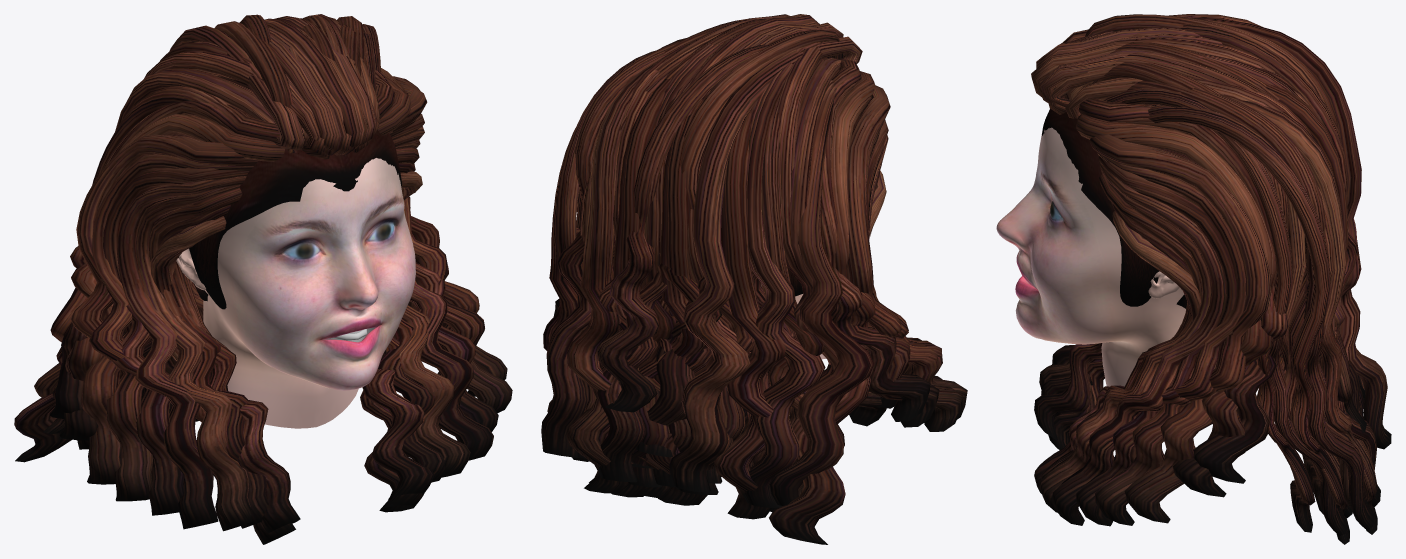
3 renders of one model, left to right at view 1: azimuth 30°, elevation 25°; view 2: azimuth 150°, elevation 25°; view 3: azimuth 270°, elevation 25°, orthographic. The views are drawn at different scales.
Parts seen in each view (by area): view 1: th; view 2: th; view 3: th.
Part boxes in pixels (x1,y1,x2,y2): th: (14,14,512,544); th: (541,14,967,544); th: (996,14,1391,544).
Bounding box in the file's own units: 365 × 387 × 298.
